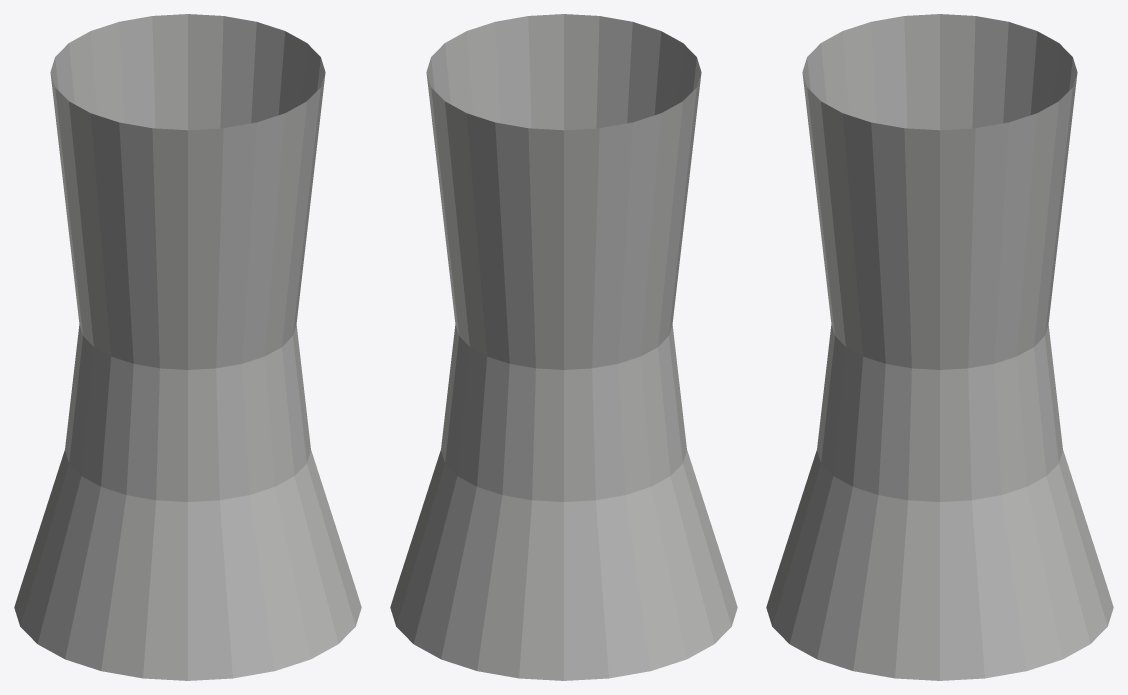
3 renders of one model, left to right at view 1: azimuth 30°, elevation 25°; view 2: azimuth 150°, elevation 25°; view 3: azimuth 270°, elevation 25°, orthographic.
Bounding box in the file's own units: 0.48 × 0.816 × 0.48.
Materials: 1 (1 with a texture image).
